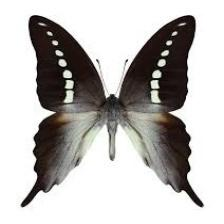butterfly: (22, 16, 204, 206)
